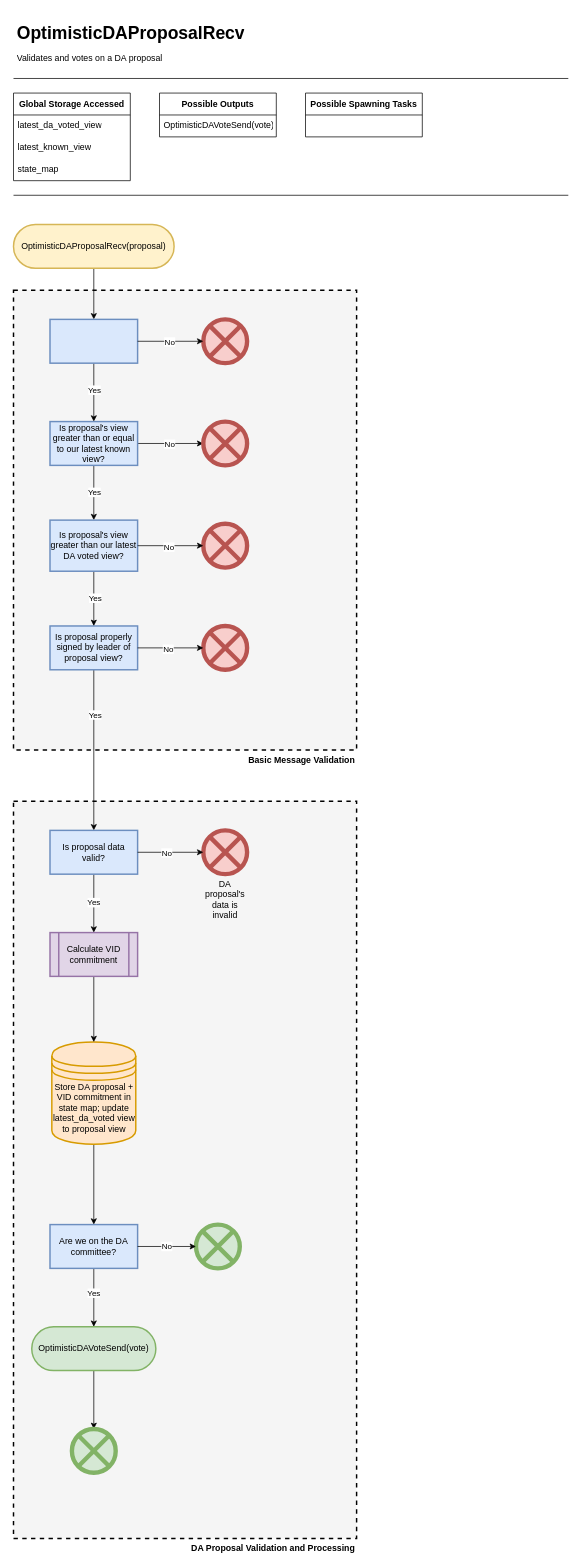
Image size: 582x1566. Some labels were removed from this diagram. The centre of each missing label's shape, as x and y in pixels:
Are we on the DA committee (or listening for DA proposals)?: the point at 93,341
DA proposal is too old: the point at 225,443
DA proposal is valid; vote not sent: the point at 217,1246
DA proposal is valid; vote sent: the point at 93,1450
DA proposal signature is invalid: the point at 225,647
We are not on the DA committee: the point at 225,341
We've already voted in this view: the point at 225,545
